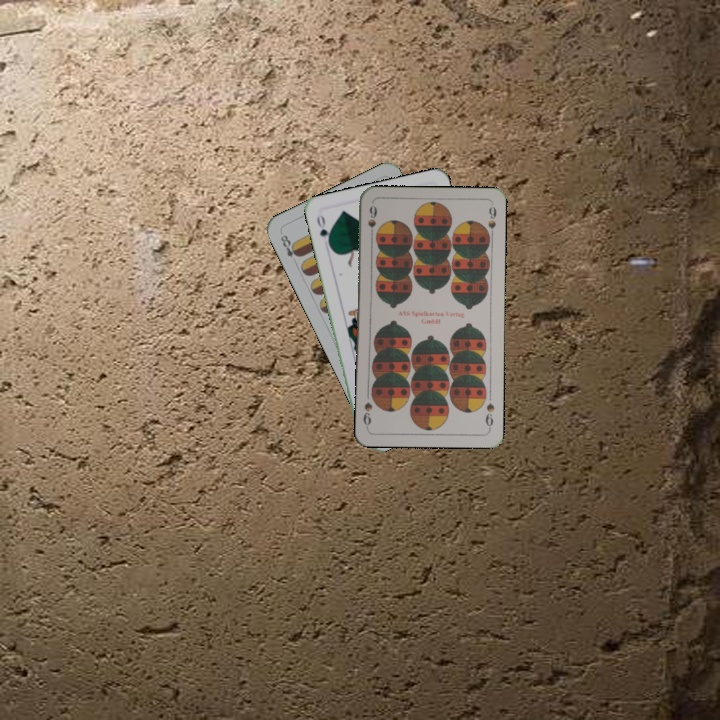E8: (276, 231, 303, 260)
GO: (313, 210, 333, 250)
S9: (364, 201, 380, 242), (482, 399, 497, 431)
